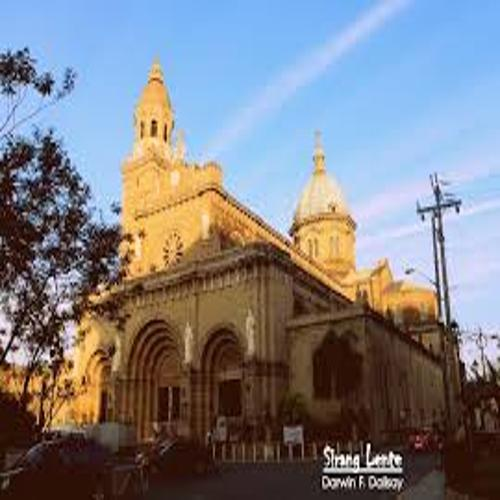Manila Cathedral Church: (60, 44, 463, 457)
